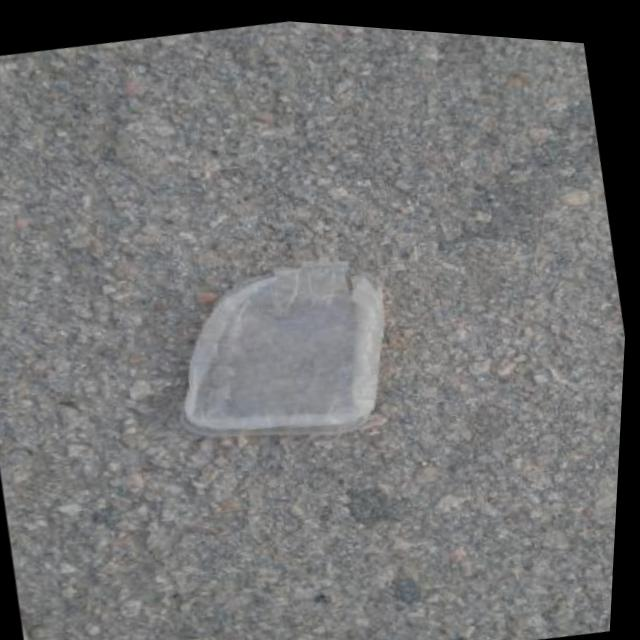plastic: (150, 237, 413, 467)
